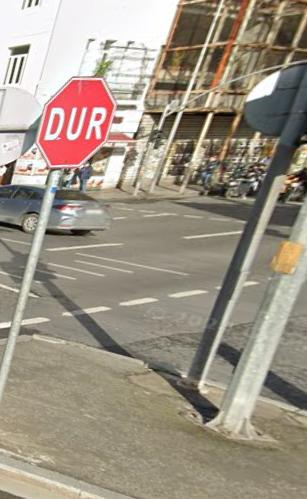stop: (43, 76, 111, 160)
